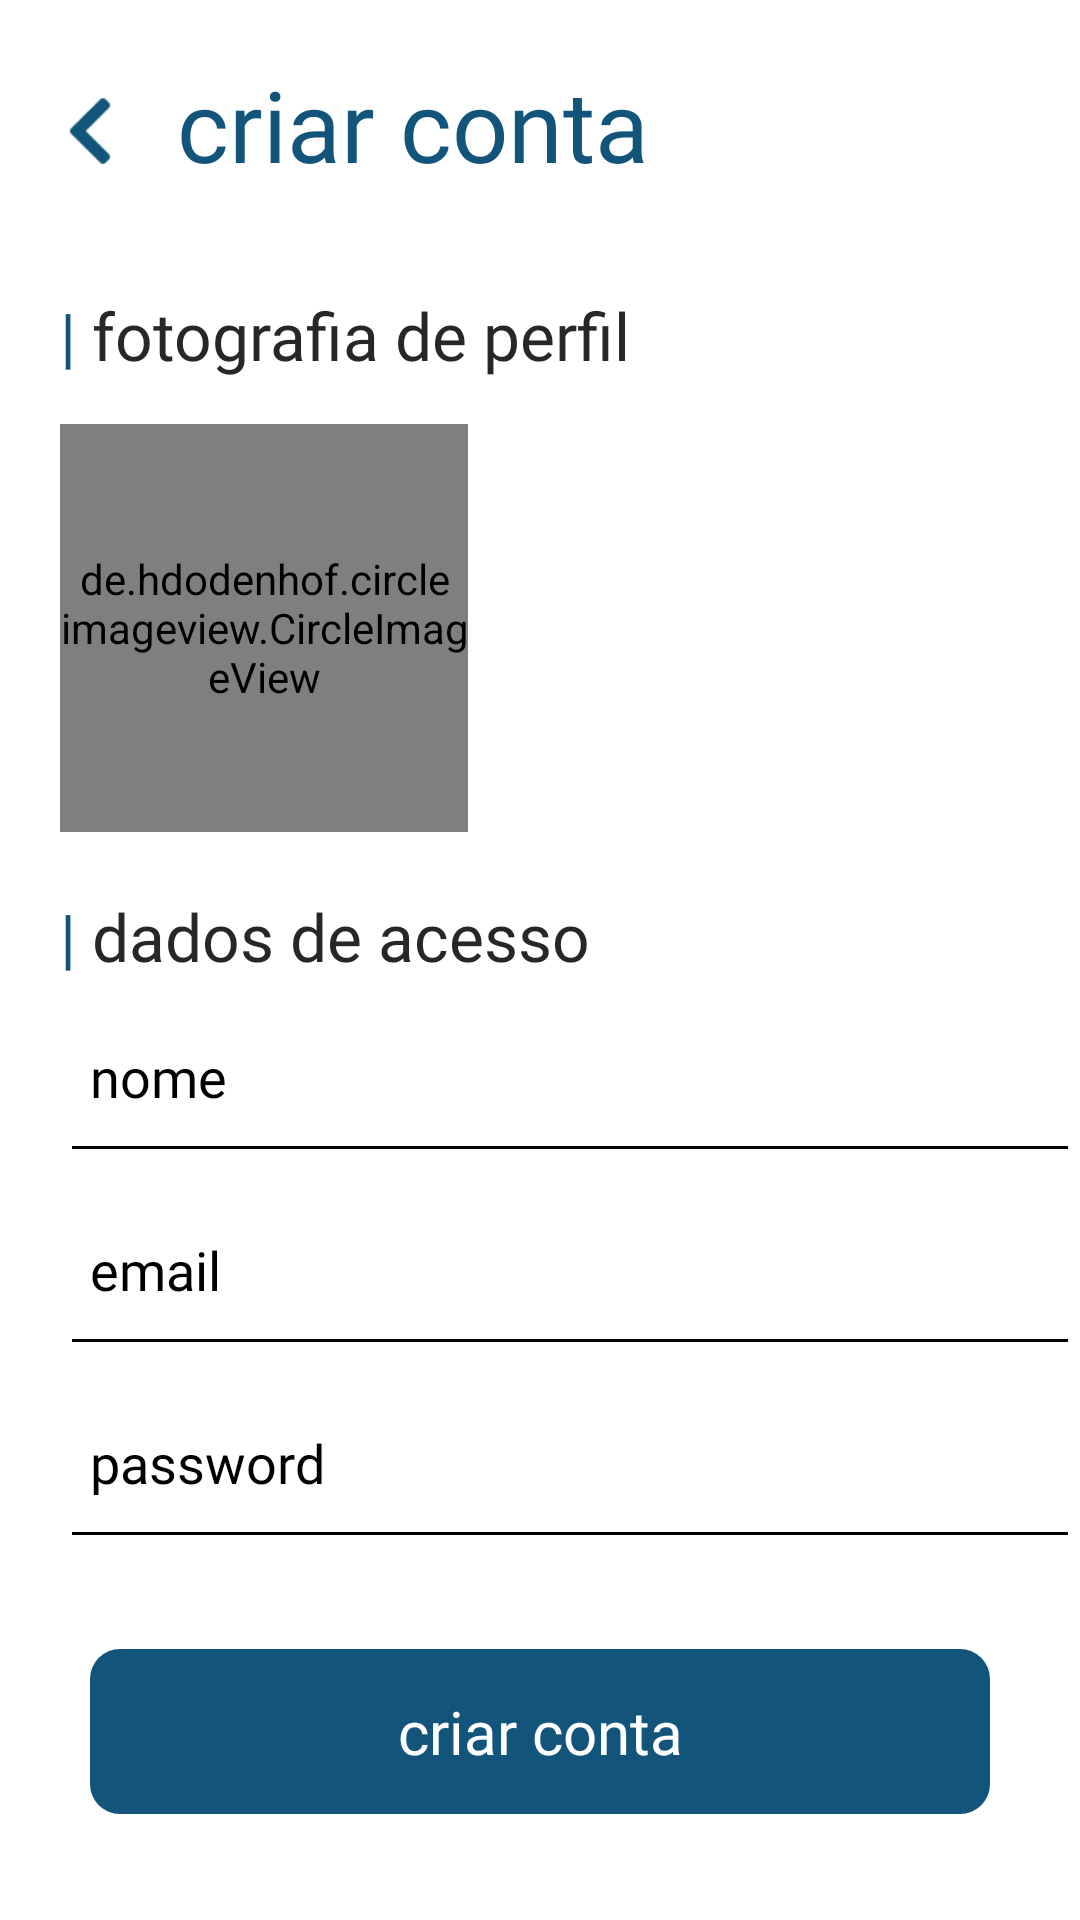

Icon bounding boxes for this 1080px x 1920px phone screenshot, format (x1, y1, x2, y2):
chevron left: (69, 98, 111, 164)
